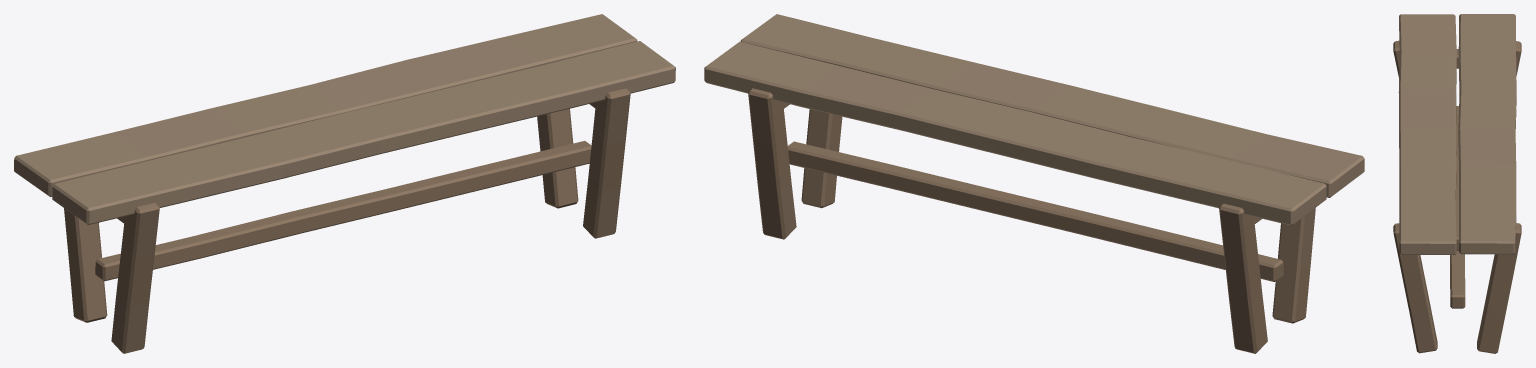
File: bench.glb
3 renders of one model, left to right at view 1: azimuth 30°, elevation 25°; view 2: azimuth 150°, elevation 25°; view 3: azimuth 270°, elevation 25°, orthographic. The views are drawn at different scales.
Parts seen in each view (by area): view 1: bench; view 2: bench; view 3: bench.
Part boxes in pixels (x1,y1,x2,y2): bench: (14, 14, 675, 353); bench: (704, 14, 1364, 353); bench: (1393, 14, 1521, 353).
Bounding box in the file's own units: 1.8 × 0.4876 × 0.4289.
